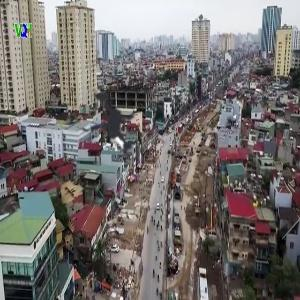drone: (45, 62, 180, 197)
